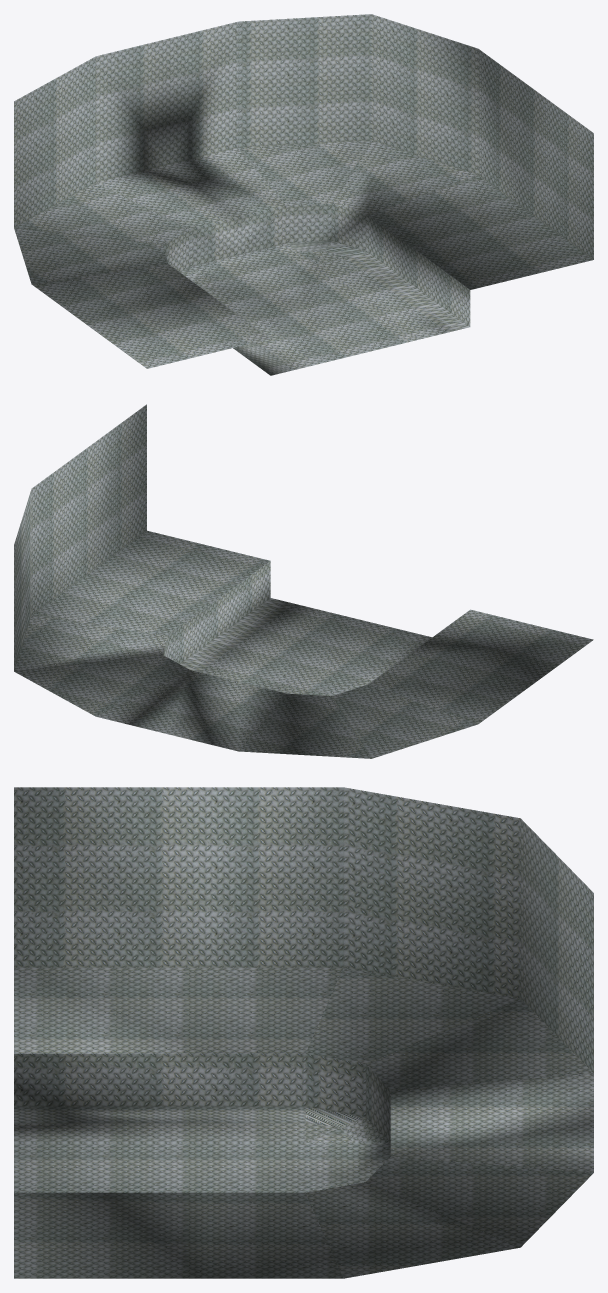
The model's file is anvil_blender_test.glb.
3 renders of one model, top to bottom at view 1: azimuth 30°, elevation 25°; view 2: azimuth 150°, elevation 25°; view 3: azimuth 270°, elevation 25°, orthographic. The views are drawn at different scales.
Visible parts, largest first — view 1: stage-col; view 2: stage-col; view 3: stage-col.
Boxes of the visible parts, x1=… form: stage-col: x1=14, y1=14, x2=593, y2=375; stage-col: x1=14, y1=404, x2=593, y2=758; stage-col: x1=14, y1=787, x2=593, y2=1278.
Size of the model in its own units: 37.86 by 13.25 by 29.84.
1 material, 1 textured.
